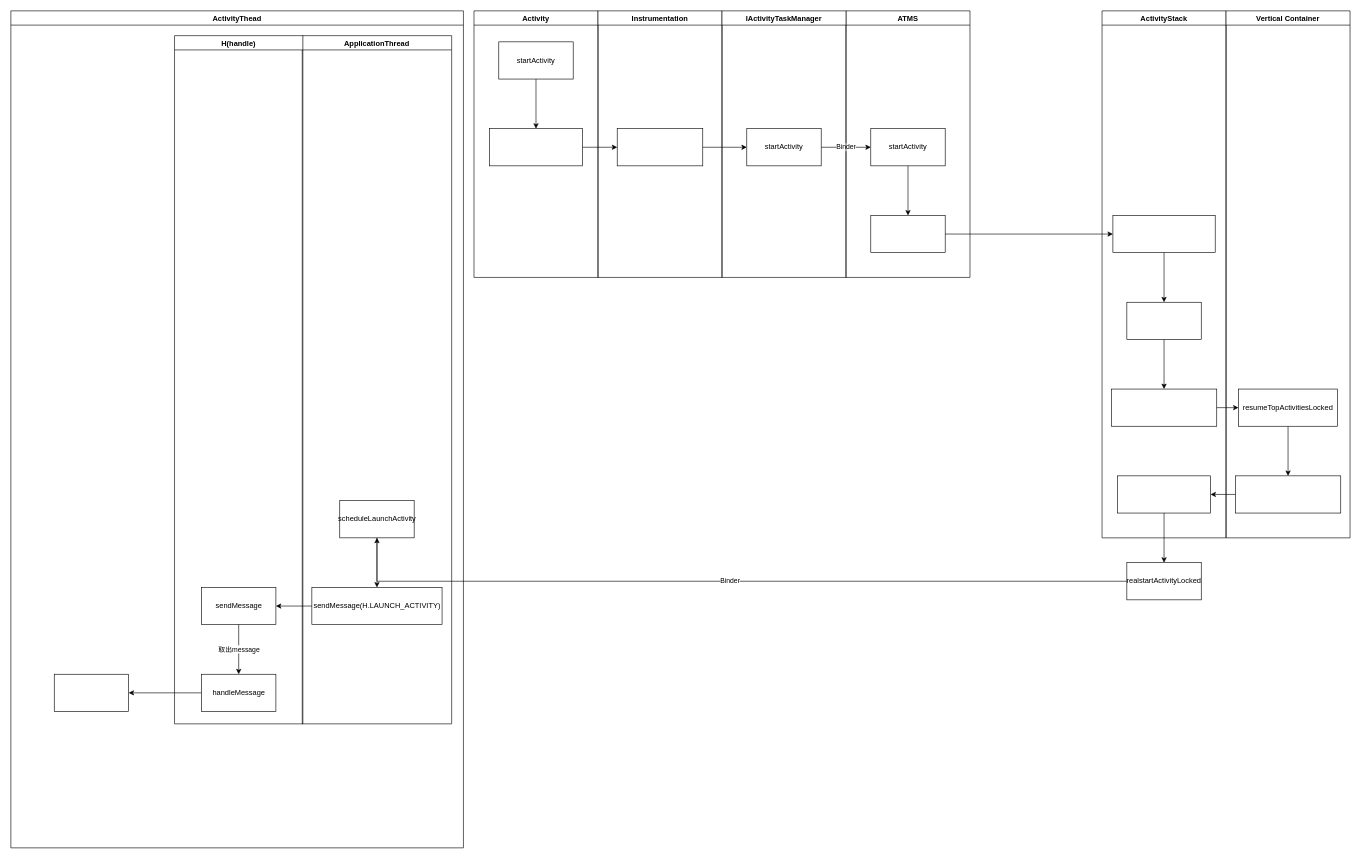
Image size: 1361x859. Some labels were removed from this diagram. Here are the shapes that lost their labels. From the top down, the centre of each, then its label:
At [535,147]: "startActivityForResult".
At [660,147]: "execStartActivity".
At [907,234]: "startActivityAsUser".
At [1163,234]: "startActivityMayWait".
At [1163,320]: "startActivityLocked".
At [1164,407]: "startActivityUncheckedLocked".
At [1164,494]: "startSpecificActivityLocked".
At [1288,494]: "resumeTopActivityInnerLocked".
At [91,692]: "handleLaunchActivity".
